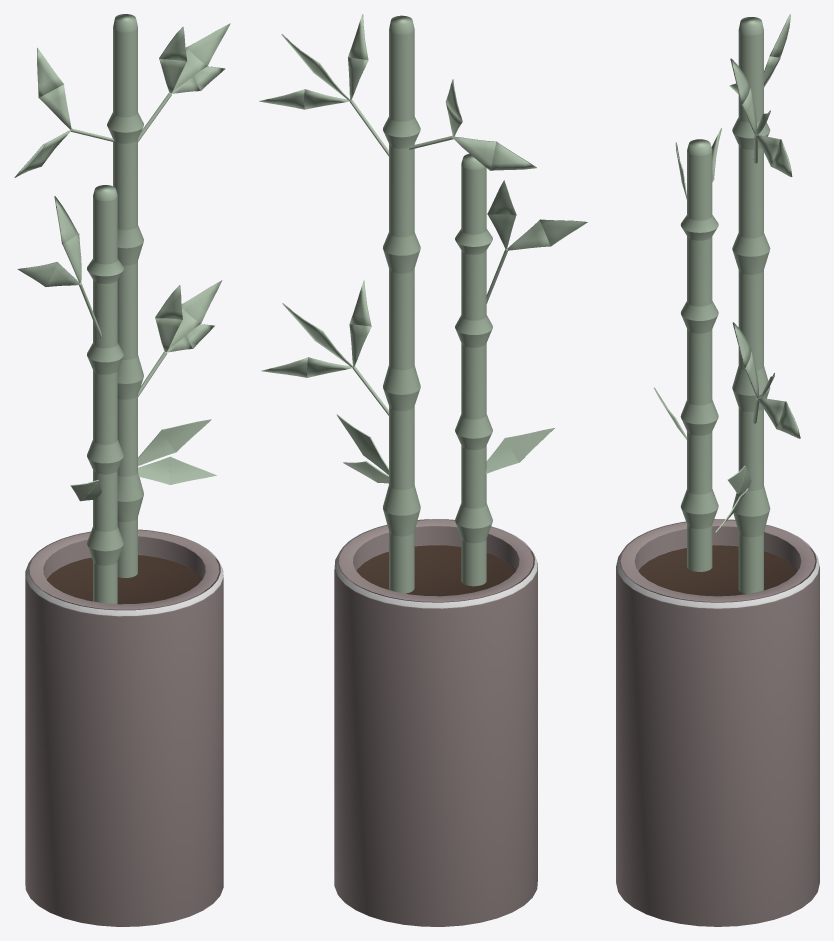
The model's file is Bamboo_Plant.fbx.
The picture shows the model from 3 angles, left to right: view 1: azimuth 30°, elevation 25°; view 2: azimuth 150°, elevation 25°; view 3: azimuth 270°, elevation 25°; orthographic projection. The views are drawn at different scales.
Visible parts, largest first — view 1: Pot, StemA, StemA.001, Cylinder.002, Cylinder.003, Cylinder.001, Cylinder, Leaf.001, Leaf.002, Leaf.003; view 2: Pot, StemA, StemA.001, Cylinder.003, Cylinder.002, Cylinder.001, Cylinder, Leaf.003, Leaf.001; view 3: Pot, StemA, StemA.001, Cylinder.002, Cylinder.003, Cylinder.
Boxes of the visible parts, x1,y1,x2,y2 form: Pot: (25,529,223,926); StemA: (107,14,143,577); StemA.001: (87,185,123,603); Cylinder.002: (138,23,230,141); Cylinder.003: (138,280,222,396); Cylinder.001: (17,196,101,338); Cylinder: (14,48,113,177); Leaf.001: (138,419,211,465); Leaf.002: (138,456,216,484); Leaf.003: (70,479,101,501); Pot: (334,519,537,926); StemA: (383,15,420,593); StemA.001: (455,153,492,586); Cylinder.003: (261,280,388,415); Cylinder.002: (259,14,388,156); Cylinder.001: (486,180,587,303); Cylinder: (409,79,536,170); Leaf.003: (485,428,554,473); Leaf.001: (336,414,388,474); Pot: (616,519,819,926); StemA: (732,17,770,593); StemA.001: (680,139,718,571); Cylinder.002: (730,58,792,176); Cylinder.003: (732,322,800,438); Cylinder: (729,14,790,159).
Size of the model in its own units: 36.85 by 113 by 24.
